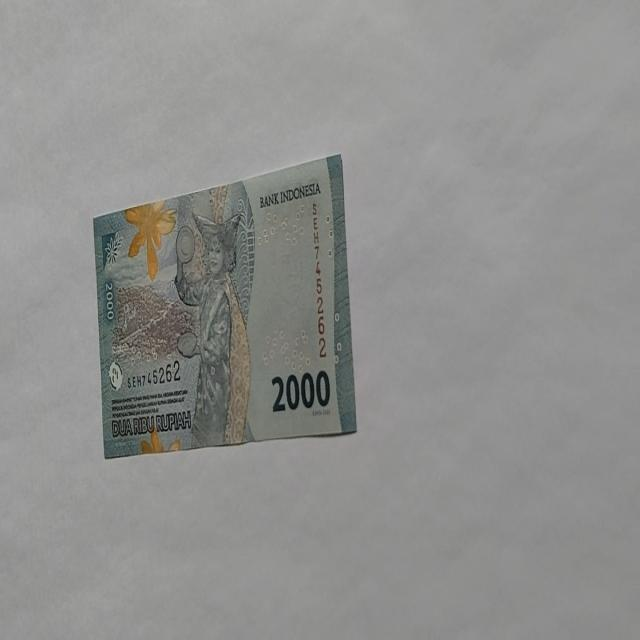dua ribu rupiah: (92, 151, 357, 459), (172, 207, 252, 448), (123, 197, 177, 281)
